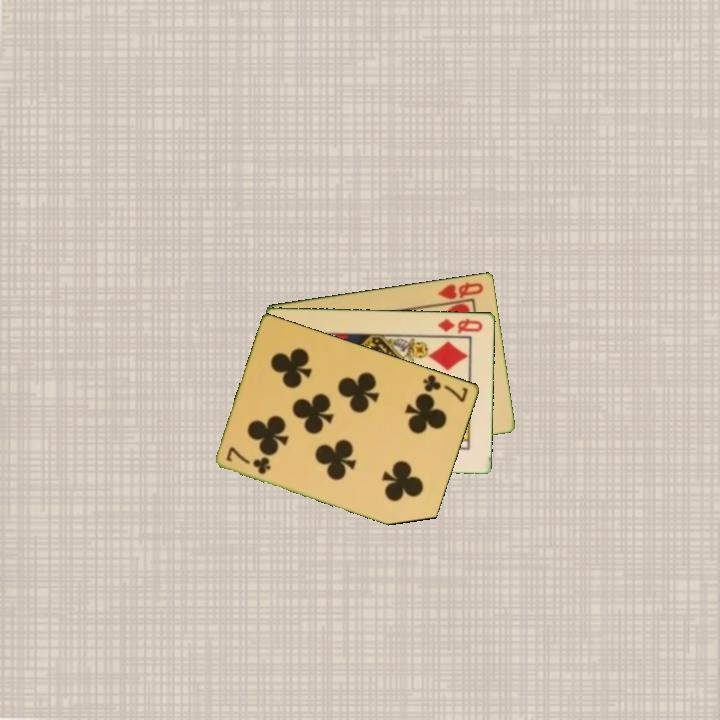7c: (420, 371, 471, 405), (223, 443, 274, 477)
Qd: (435, 315, 485, 336)
Qh: (435, 278, 486, 302)
